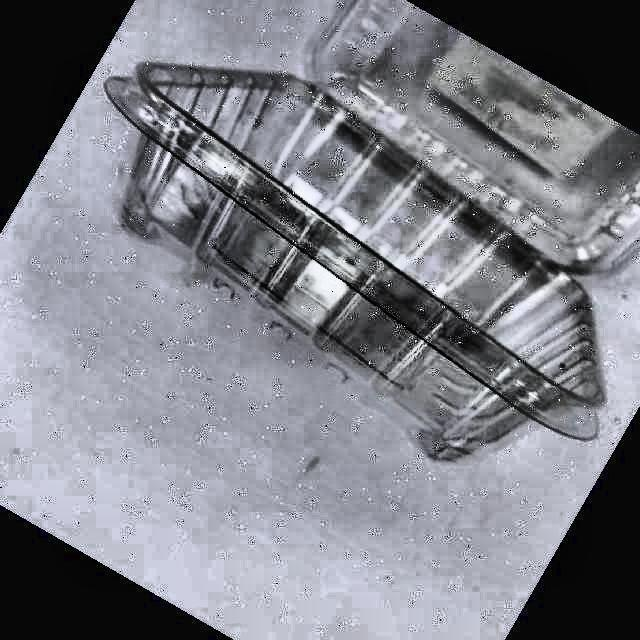plastic: (106, 2, 640, 458)
